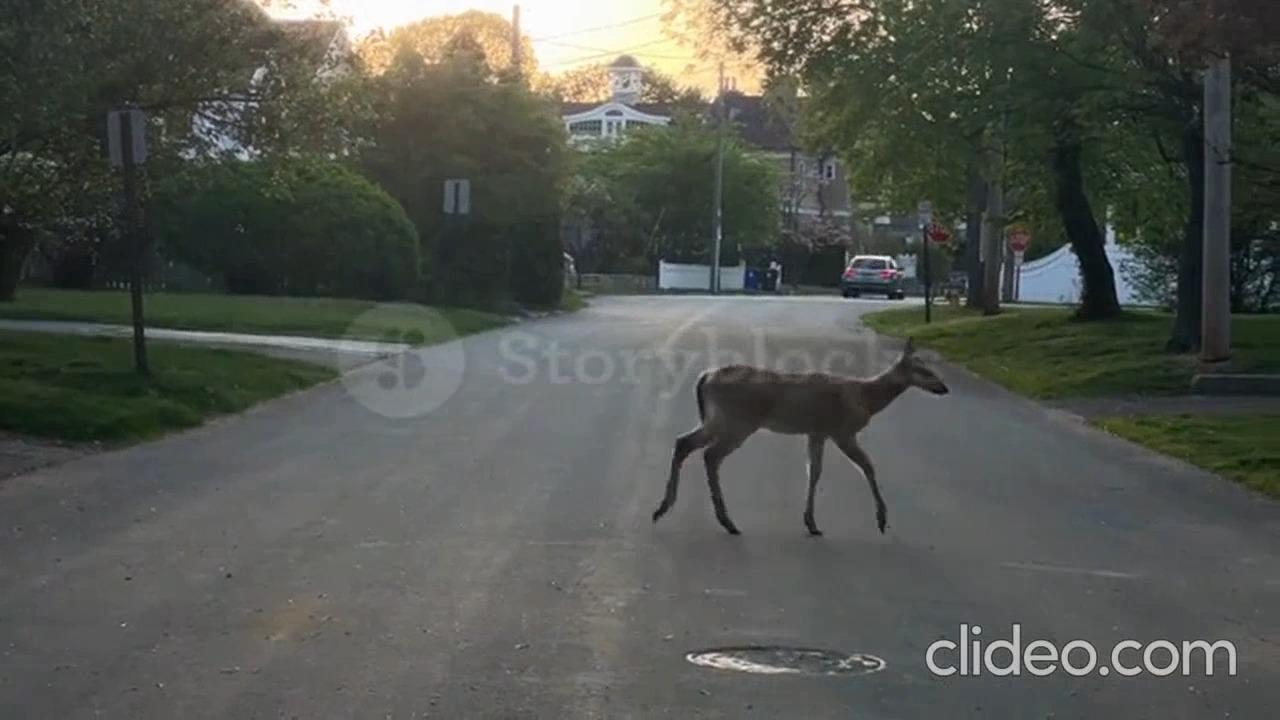dog: (641, 332, 956, 542)
